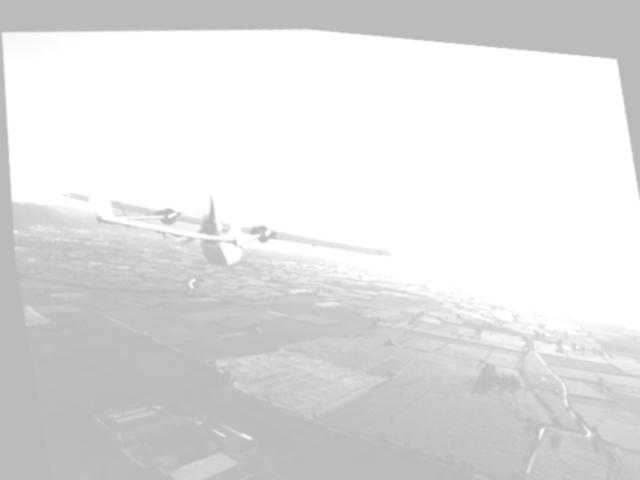hedef: (45, 94, 402, 362)
